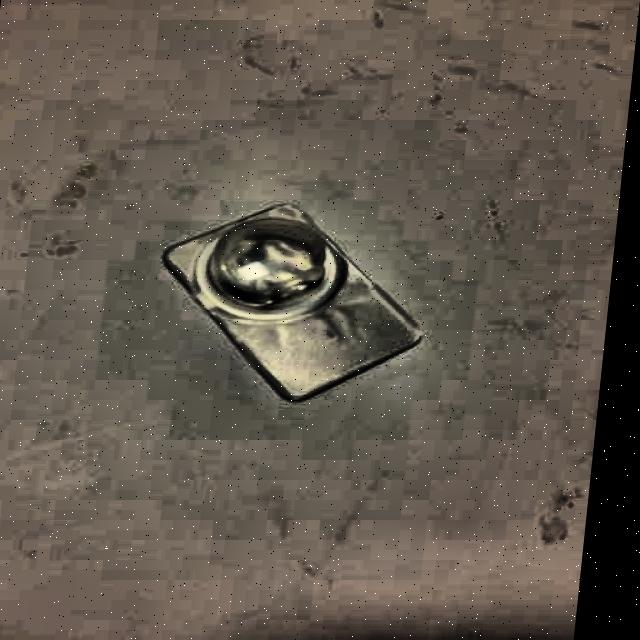plastic: (145, 203, 441, 404)
